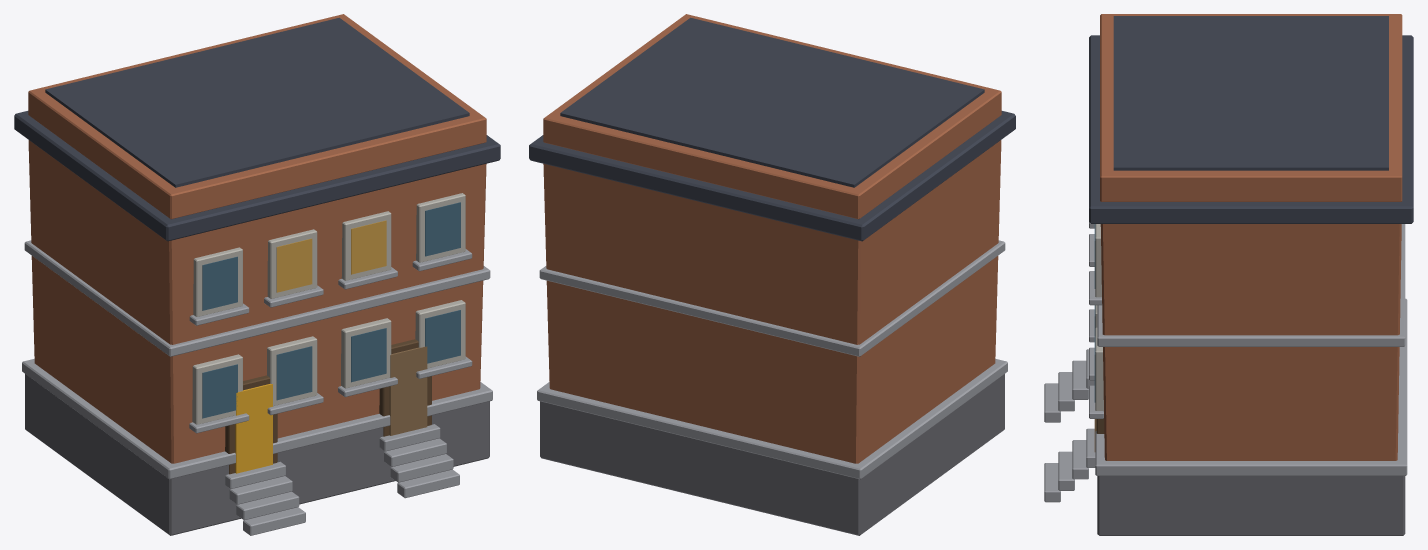
The model's file is Stylized_Landmark_BrownstoneRow.fbx.
3 renders of one model, left to right at view 1: azimuth 30°, elevation 25°; view 2: azimuth 150°, elevation 25°; view 3: azimuth 270°, elevation 25°, orthographic. The views are drawn at different scales.
Parts seen in each view (by area): view 1: Stylized_Landmark_BrownstoneRow; view 2: Stylized_Landmark_BrownstoneRow; view 3: Stylized_Landmark_BrownstoneRow.
Part boxes in pixels (left/top/right/bottom): Stylized_Landmark_BrownstoneRow: left=14, top=14, right=500, bottom=535; Stylized_Landmark_BrownstoneRow: left=529, top=14, right=1015, bottom=535; Stylized_Landmark_BrownstoneRow: left=1044, top=14, right=1413, bottom=535.
Size of the model in its own units: 5.86 by 5.74 by 5.3.
